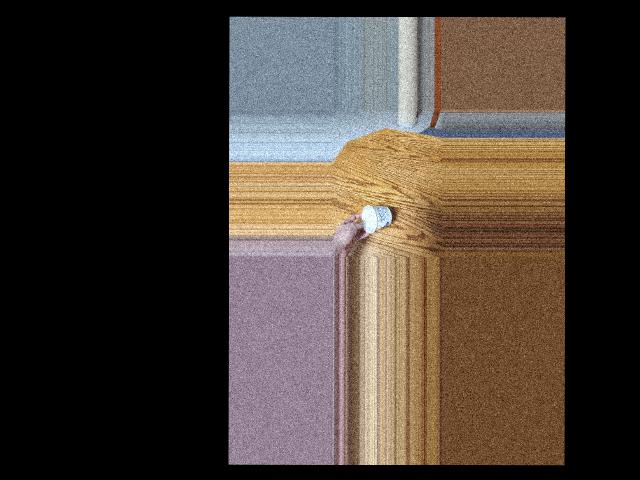cotage: (360, 203, 390, 234)
